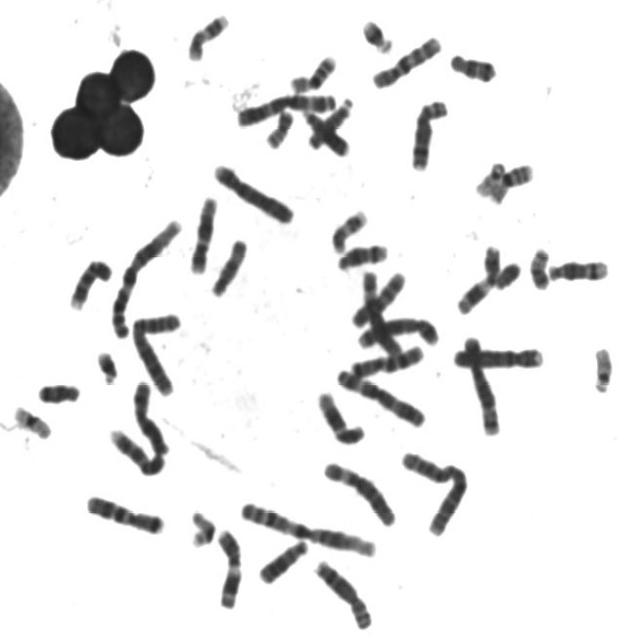A1: (106, 211, 186, 340), (236, 492, 381, 560)
A2: (396, 442, 473, 538), (126, 304, 187, 398)
A3: (332, 361, 429, 429), (233, 84, 339, 128)
B4: (208, 156, 298, 227), (448, 338, 547, 371)
B5: (460, 327, 506, 437), (354, 310, 444, 351)
C10: (367, 27, 446, 91), (347, 264, 409, 329)
C11: (451, 236, 506, 316), (212, 522, 246, 610)
C12: (311, 383, 369, 446), (185, 188, 221, 275)
C6: (319, 452, 401, 528), (357, 264, 406, 358)
C7: (82, 486, 168, 536), (346, 337, 426, 380)
C8: (309, 552, 377, 632), (406, 92, 453, 172)
C9: (105, 420, 169, 477), (65, 250, 116, 312)
D13: (255, 532, 312, 585), (300, 103, 354, 156)
D14: (543, 250, 614, 284), (333, 235, 392, 272)
D15: (206, 230, 252, 298), (304, 91, 356, 151)
E16: (284, 46, 340, 94), (486, 154, 538, 205)
E17: (183, 5, 233, 62), (327, 201, 372, 255)
E18: (445, 44, 501, 84), (33, 374, 83, 406)
F19: (8, 397, 55, 441), (185, 502, 219, 549)
F20: (260, 102, 298, 150), (525, 240, 555, 291)
G21: (357, 10, 398, 55), (91, 343, 122, 385)
G22: (587, 337, 618, 395), (472, 154, 510, 198)
X: (128, 373, 173, 456)
Y: (491, 254, 525, 291)
